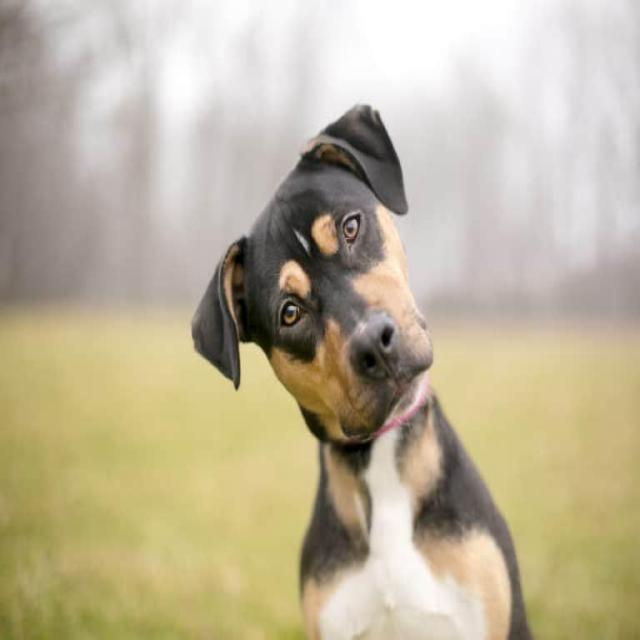Dog: (184, 91, 442, 457)
